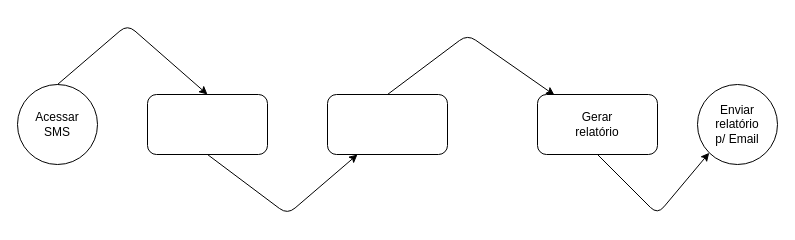
This 795x240 diagram has some shape labels left out. The centre of each missing label's shape, as x and y in pixels:
Baixar o .xlsx do SMS: [207,124]
Copiar e colar o conteúdo de um excel para outro: [387,124]
